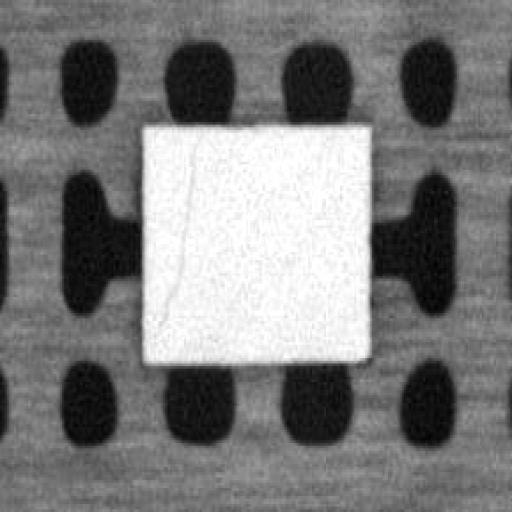DIE_CRACK: (154, 140, 195, 324)
